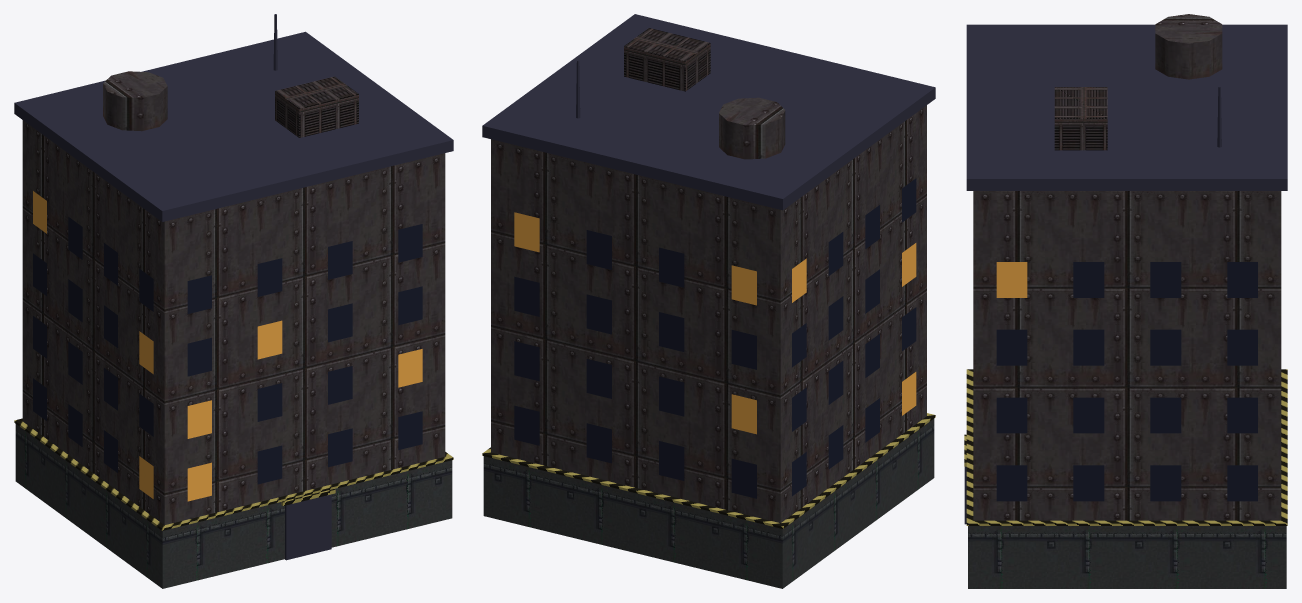
File: prop_building_20m.glb
The picture shows the model from 3 angles, left to right: view 1: azimuth 30°, elevation 25°; view 2: azimuth 150°, elevation 25°; view 3: azimuth 270°, elevation 25°; orthographic projection. The views are drawn at different scales.
Parts seen in each view (by area): view 1: prop_building_20m; view 2: prop_building_20m; view 3: prop_building_20m.
Part boxes in pixels (x1=…): prop_building_20m: x1=14, y1=14, x2=453, y2=588; prop_building_20m: x1=482, y1=14, x2=935, y2=588; prop_building_20m: x1=964, y1=14, x2=1287, y2=588.
Bounding box in the file's own units: 16.6 × 23.6 × 14.72.
7 materials, 4 textured.
